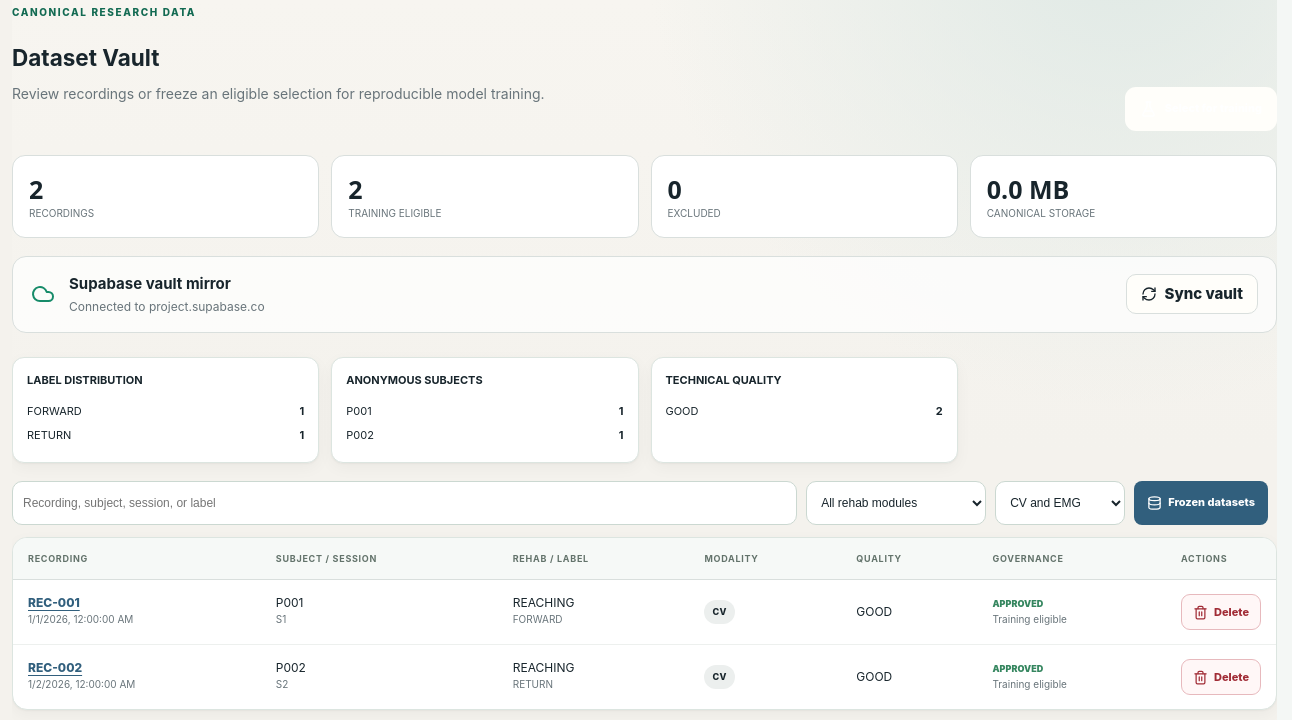
it: Dataset Vault ML selection › confirms and deletes a recording from the rightmost row action
The image size is (1292, 720).
Expected: the link "REC-001" is shown, [28, 595, 80, 610]
Click the button with aria-label "Delete REC-001": (1221, 612) [1181, 594, 1261, 630]
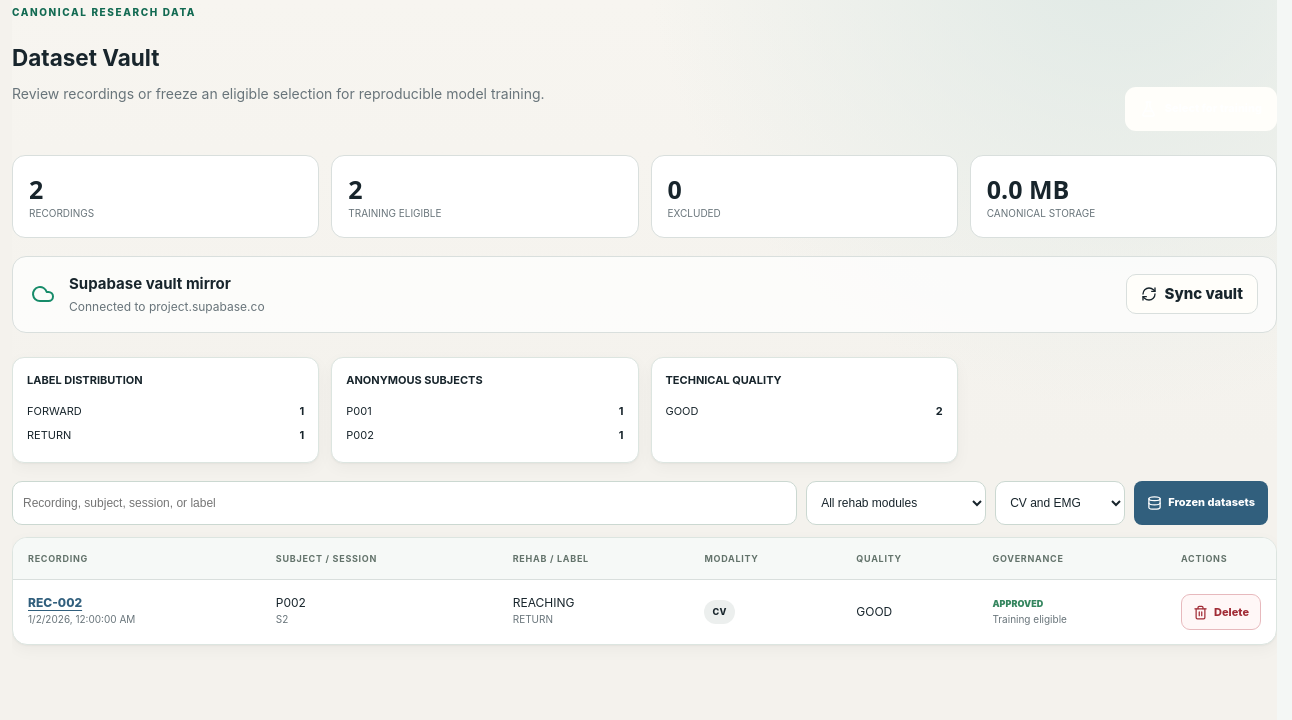
Expected: the link "REC-001" is gone
